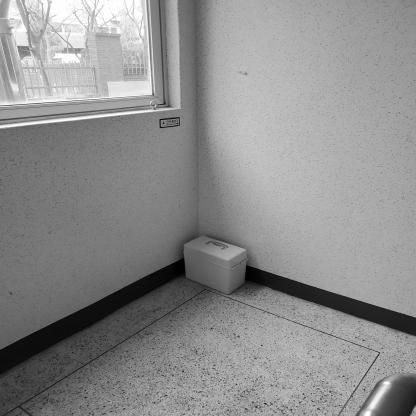DDL: (183, 236, 248, 295)
